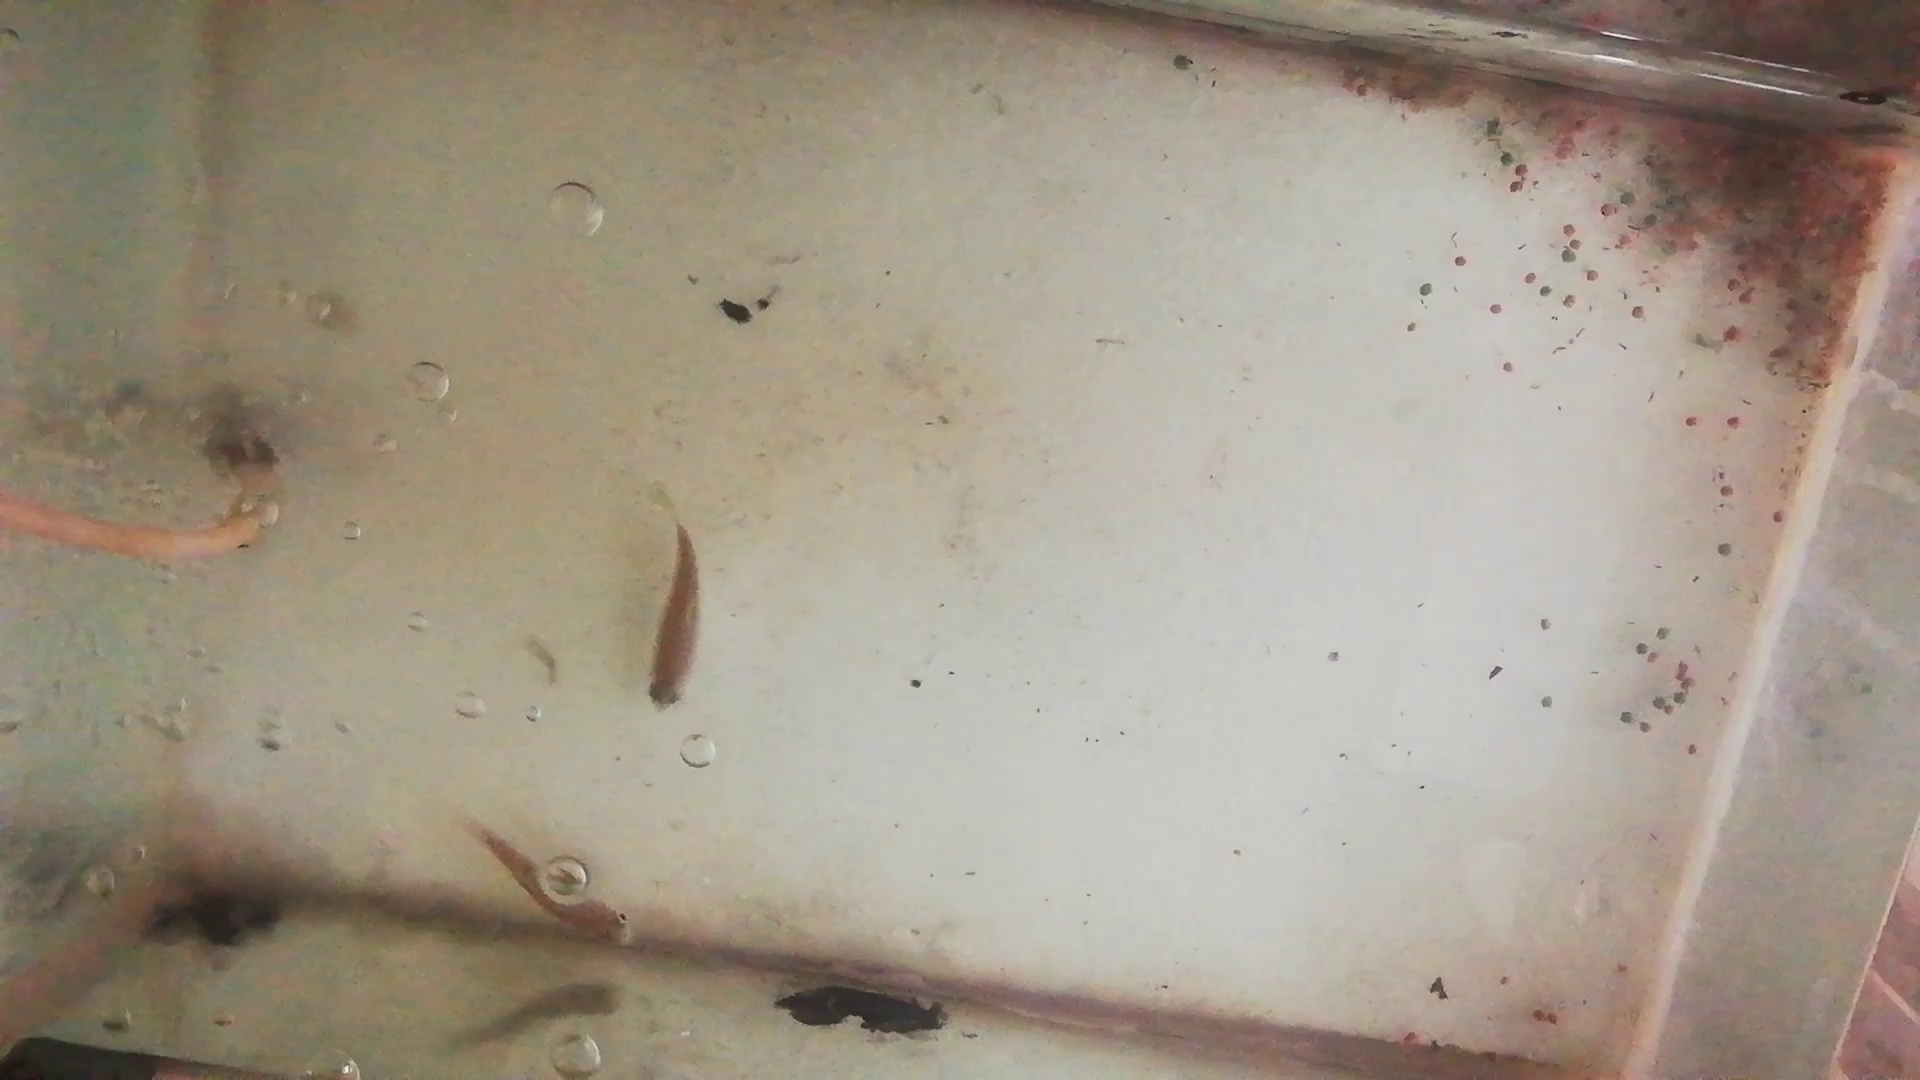fish: (465, 825, 636, 948), (642, 524, 707, 709)
